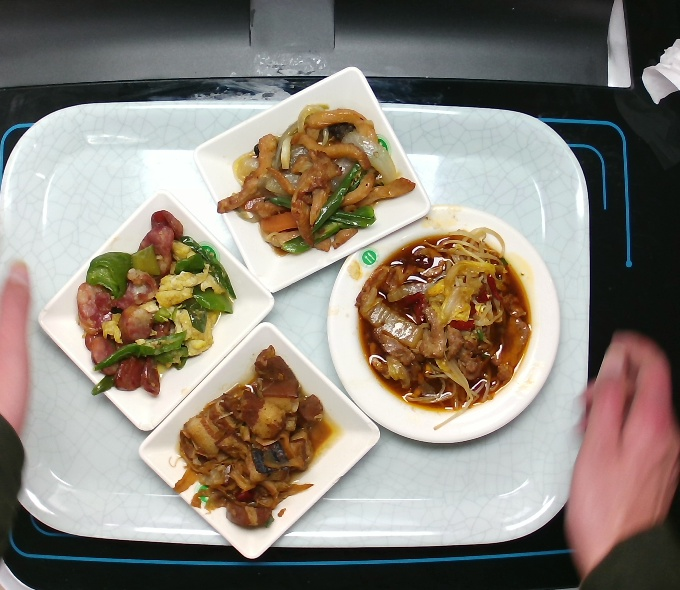wcq-HongShaoRou: (167, 343, 343, 530)
wcq-QingJiaoJiDanChaoDaChang: (73, 207, 238, 399)
wcq-QingJiaoRouSi: (212, 102, 419, 256)
wcq-ShuiZhuRouPian: (355, 236, 536, 416)
